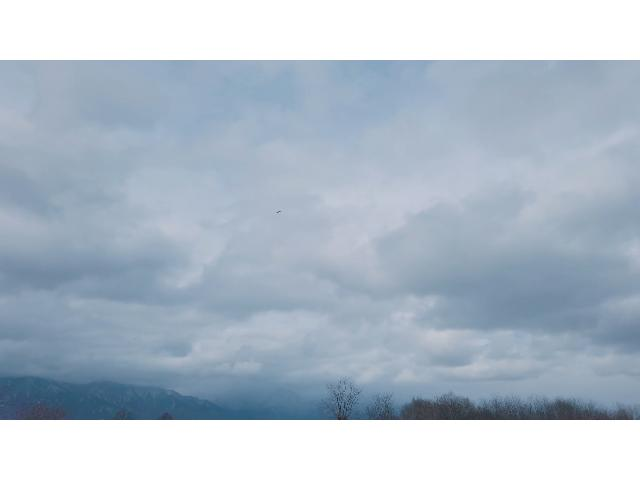Anti-Drone: (272, 207, 286, 215)
